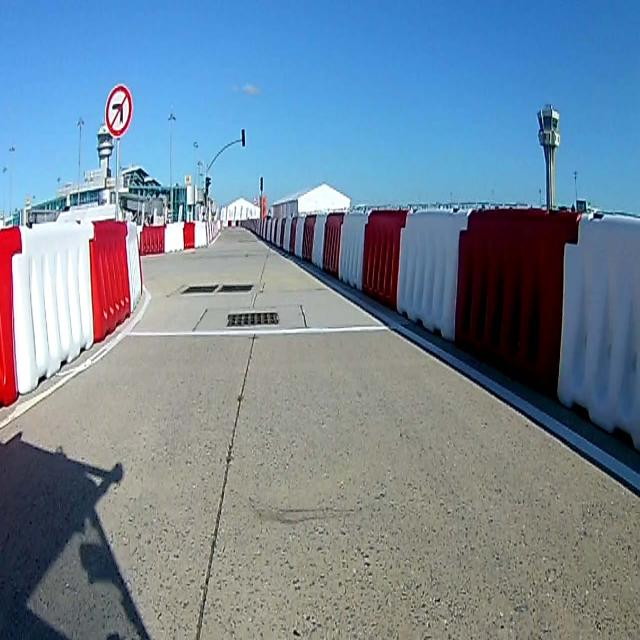soladonulmez: (104, 80, 134, 140)
